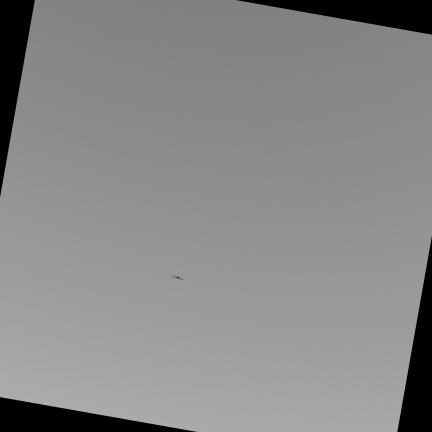Shahed: (172, 277, 183, 279)
